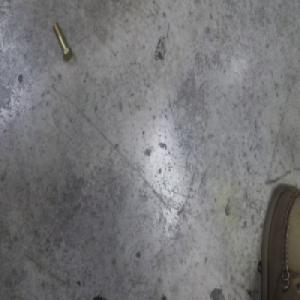Bolt: (52, 21, 72, 63)
